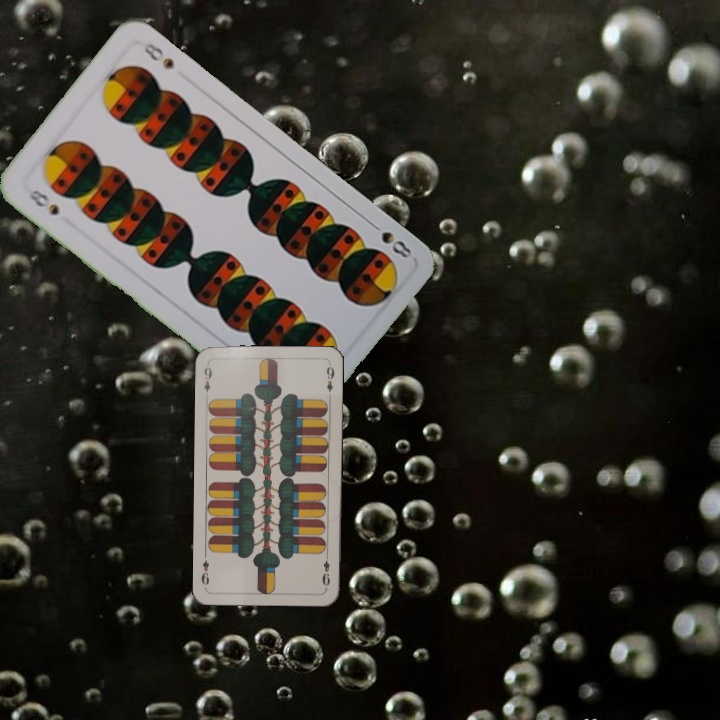E9: (200, 360, 214, 400), (318, 550, 332, 588)
S8: (365, 217, 415, 261), (24, 185, 62, 218)
